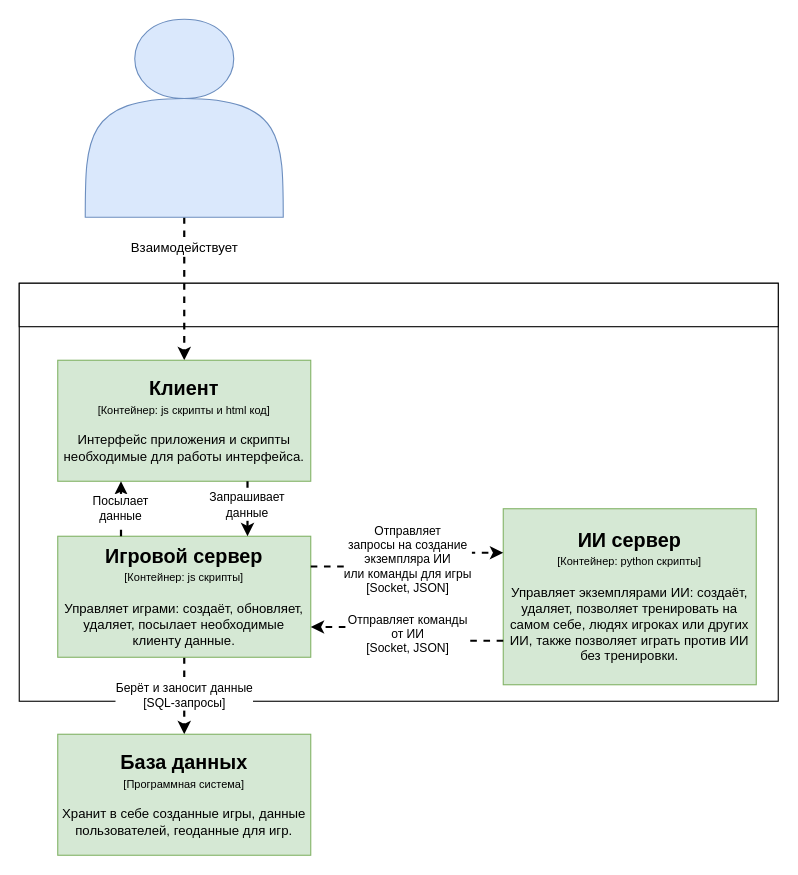
Some shapes in this 798 by 875 pixel diagram are drawn without their labels. The shapes that lost their labels are listed below. From the top down, each one's box as (x1, y1, x2, y2) in pixels, then its label:
(84, 18, 283, 217): Игрок [Персона] Играет в игру
(18, 282, 778, 327): Web-приложение "WarOnMap"
